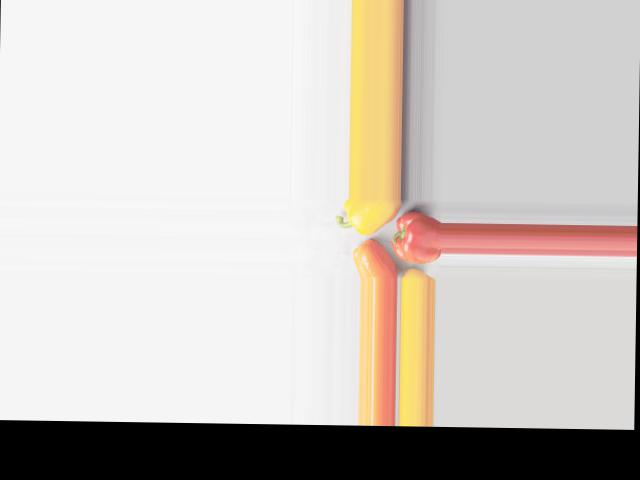bell_pepper: (391, 209, 441, 264)
